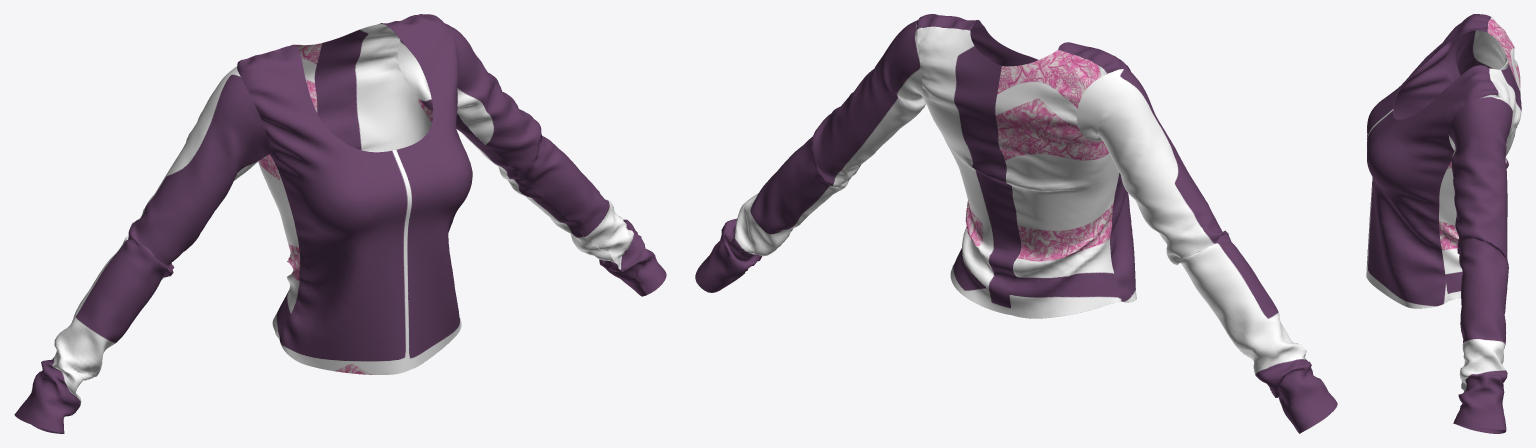
Rendered from Quad.fbx.
3 renders of one model, left to right at view 1: azimuth 30°, elevation 25°; view 2: azimuth 150°, elevation 25°; view 3: azimuth 270°, elevation 25°, orthographic. The views are drawn at different scales.
Parts seen in each view (by area): view 1: Quad; view 2: Quad; view 3: Quad.
Boxes of the visible parts, x1=… form: Quad: x1=14, y1=14, x2=666, y2=433; Quad: x1=695, y1=14, x2=1337, y2=433; Quad: x1=1366, y1=14, x2=1521, y2=433.
Bounding box in the file's own units: 109 × 53.52 × 28.09.
